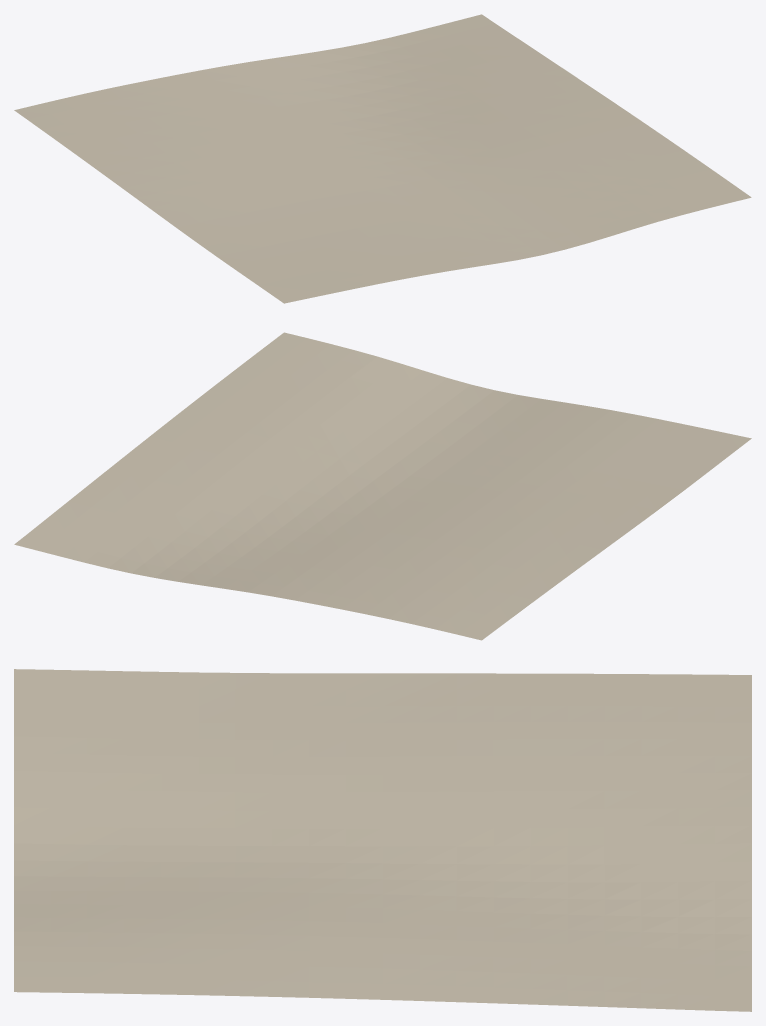
File: bolak_-20_11.glb
3 views of the same model, one above another, from view 1: azimuth 30°, elevation 25°; view 2: azimuth 150°, elevation 25°; view 3: azimuth 270°, elevation 25° (orthographic). The views are drawn at different scales.
Parts seen in each view (by area): view 1: Yer_Tuproq-col; view 2: Yer_Tuproq-col; view 3: Yer_Tuproq-col.
Boxes of the visible parts, x1,y1,x2,y2 form: Yer_Tuproq-col: (14, 14, 751, 303); Yer_Tuproq-col: (14, 332, 751, 640); Yer_Tuproq-col: (14, 669, 751, 1011).
Size of the model in its own units: 400 by 19.17 by 400.
